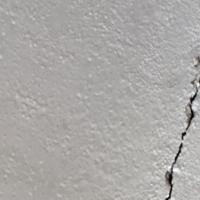crack: (153, 58, 199, 199)
